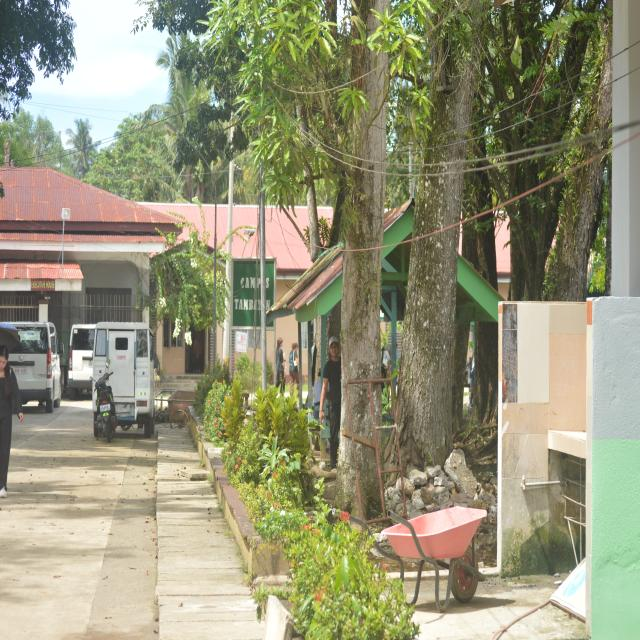person: (0, 345, 23, 497), (320, 337, 341, 469), (289, 343, 299, 396), (275, 338, 284, 394)
